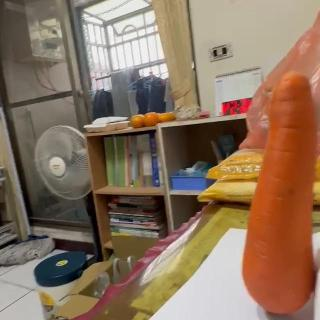carrot: (240, 70, 318, 316)
